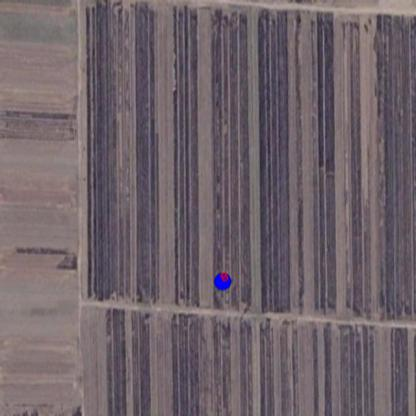B: (220, 270, 229, 283)
circle: (212, 272, 233, 292)
